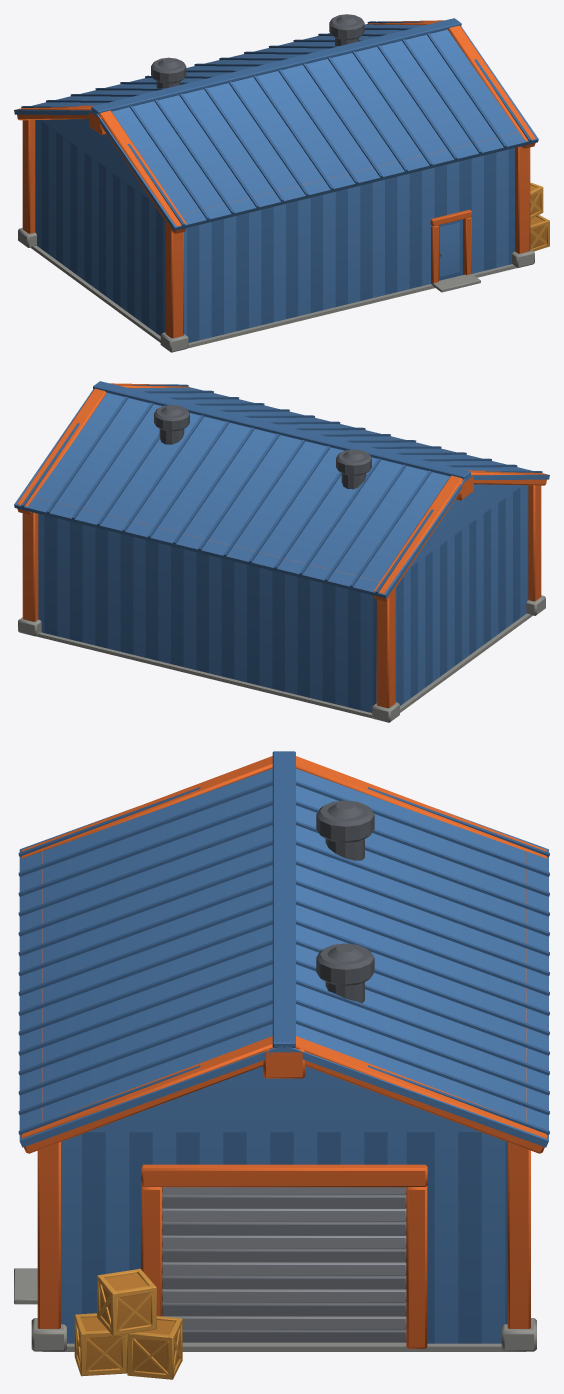
The model's file is warehouse.glb.
The picture shows the model from 3 angles, top to bottom: view 1: azimuth 30°, elevation 25°; view 2: azimuth 150°, elevation 25°; view 3: azimuth 270°, elevation 25°; orthographic projection. The views are drawn at different scales.
Parts seen in each view (by area): view 1: warehouse_roof, warehouse_shell, warehouse_frame, warehouse_door, warehouse_crates; view 2: warehouse_shell, warehouse_roof, warehouse_frame; view 3: warehouse_roof, warehouse_shell, warehouse_frame, warehouse_roller_door, warehouse_crates.
Part boxes in pixels (box(x1,y1,x2,y2)): warehouse_roof: box(14, 14, 538, 230); warehouse_shell: box(31, 119, 516, 348); warehouse_frame: box(17, 20, 535, 352); warehouse_door: box(438, 219, 462, 280); warehouse_crates: box(530, 182, 549, 251); warehouse_shell: box(36, 484, 532, 718); warehouse_roof: box(14, 381, 549, 598); warehouse_frame: box(17, 383, 546, 722); warehouse_roof: box(18, 751, 549, 1147); warehouse_shell: box(42, 1066, 525, 1351); warehouse_frame: box(14, 756, 546, 1351); warehouse_roller_door: box(162, 1187, 406, 1342); warehouse_crates: box(74, 1268, 182, 1379).
Bounding box in the file's own units: 16.12 × 7.81 × 11.4.
